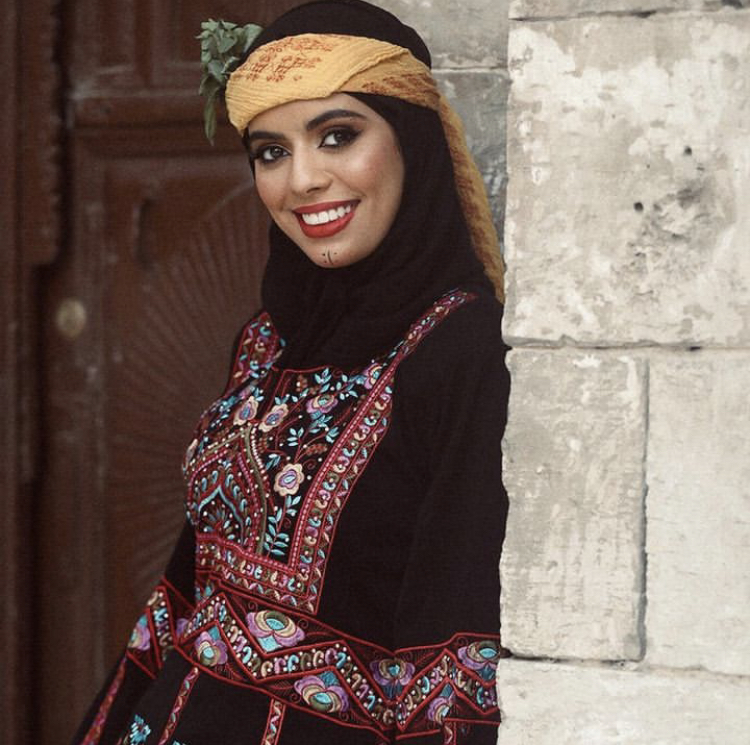Saudi_Founding_Day: (68, 3, 512, 745)
